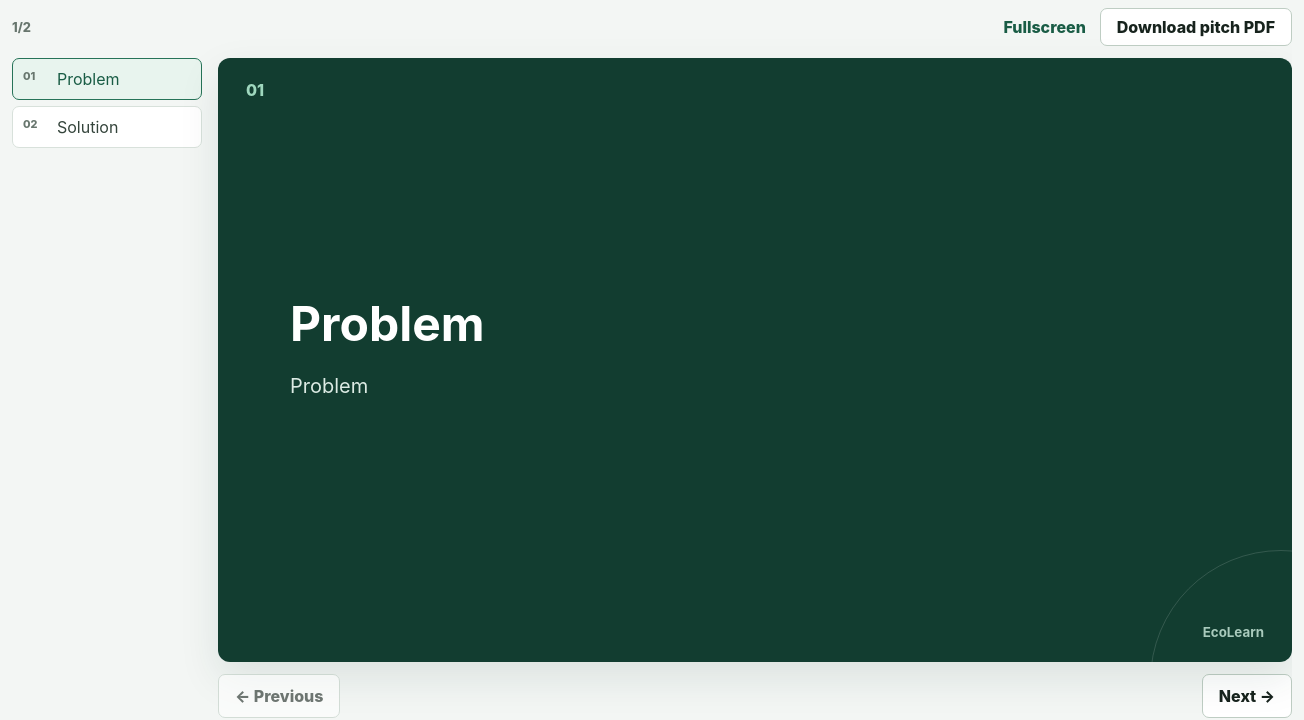
Test: PitchDeckView › navigates slides with controls and arrow keys without crossing boundaries
Expected: the heading "Problem" is shown, [290,294,485,353]
Click the button with aria-label "Next slide" at (1247, 696), box [1202,674,1292,718]
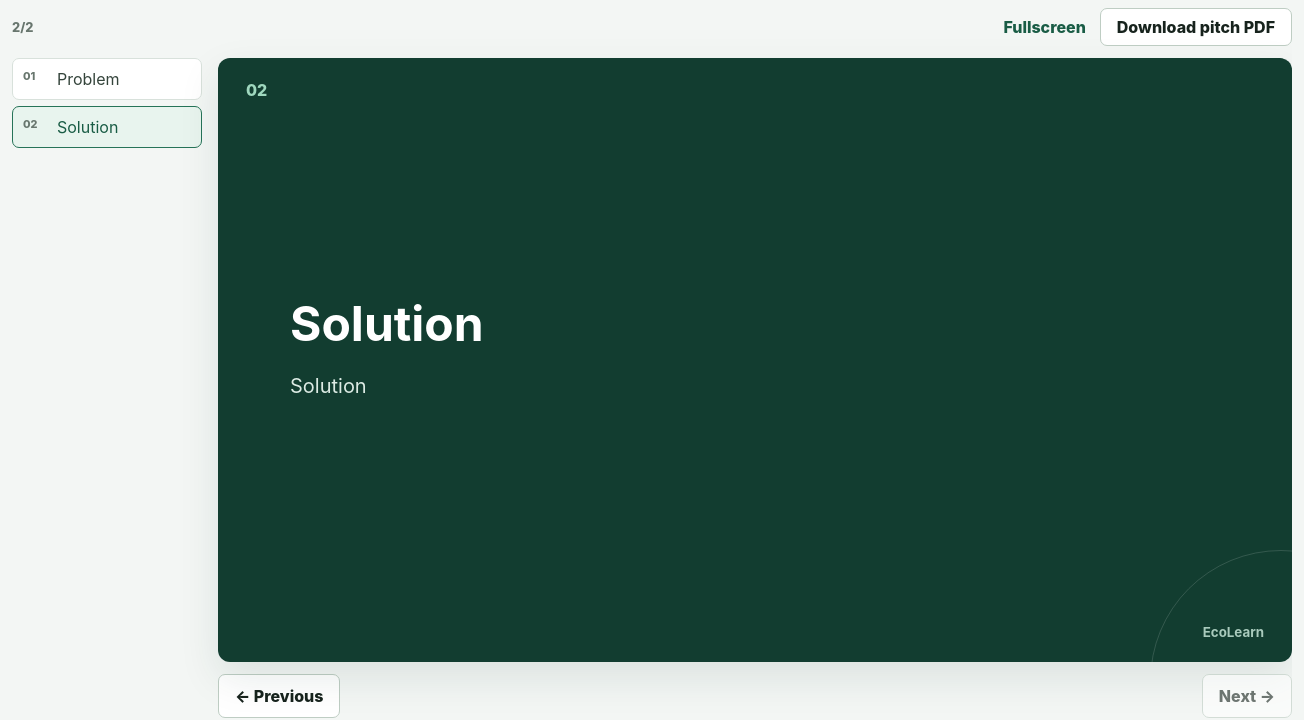
Expected: the heading "Solution" is shown, [290,294,484,353]
Press Arrowright
Expected: the text "2/2" is shown, [12,20,34,34]
Press Arrowleft
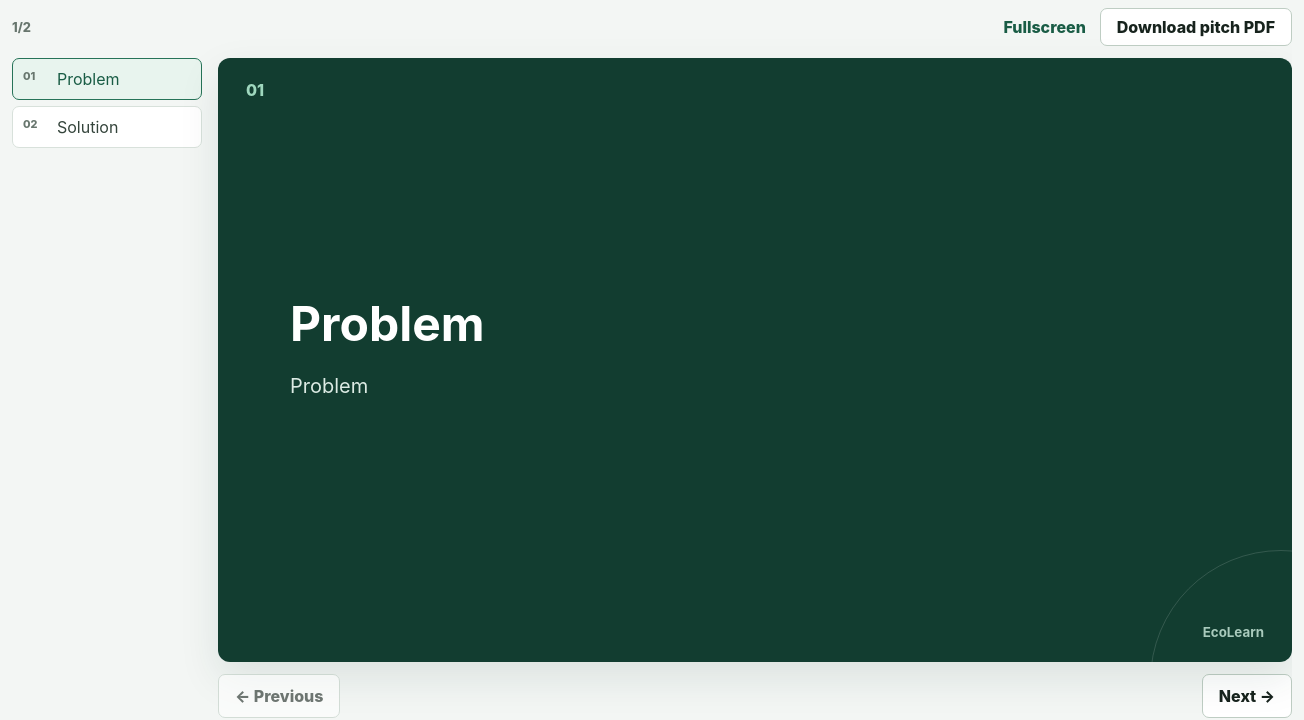
Expected: the heading "Problem" is shown, [290,294,485,353]
